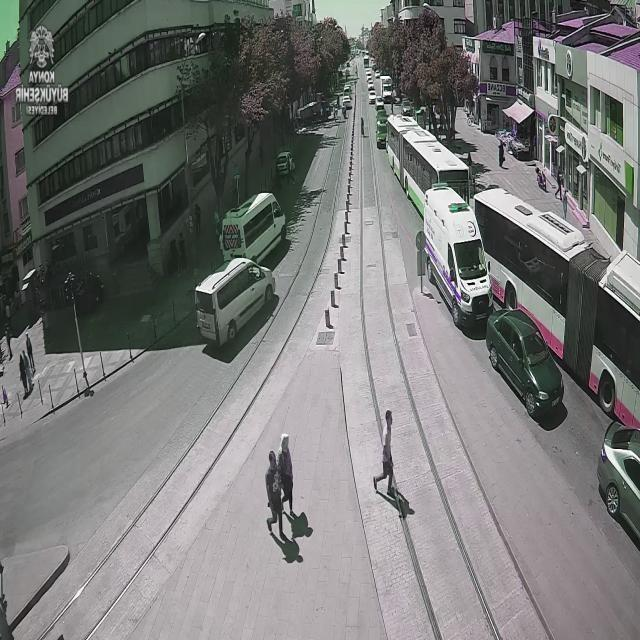Bus: (470, 186, 640, 432)
Car: (486, 309, 564, 416), (597, 423, 640, 555), (276, 151, 296, 175), (402, 100, 412, 116), (341, 96, 351, 110), (368, 90, 376, 102), (376, 97, 384, 108), (343, 84, 351, 93)
Truck: (380, 76, 393, 104)
Van: (422, 183, 493, 328), (194, 256, 276, 344), (218, 192, 286, 267)
